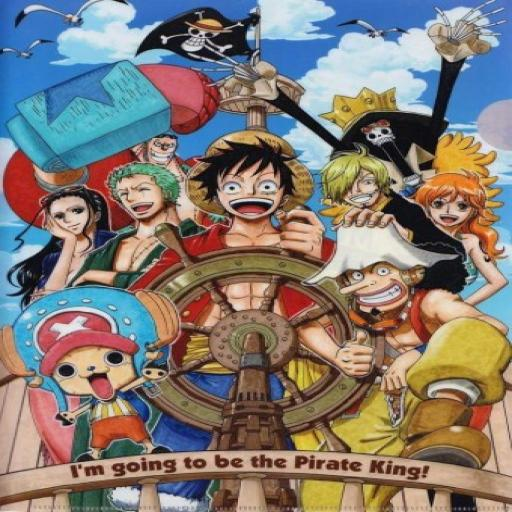Luffy: (185, 125, 310, 226)
Nami: (405, 171, 501, 227)
NicoRobin: (22, 184, 118, 252)
Usopp: (304, 223, 445, 315)
Zoro: (104, 158, 199, 230)
sanji: (312, 149, 402, 220)
